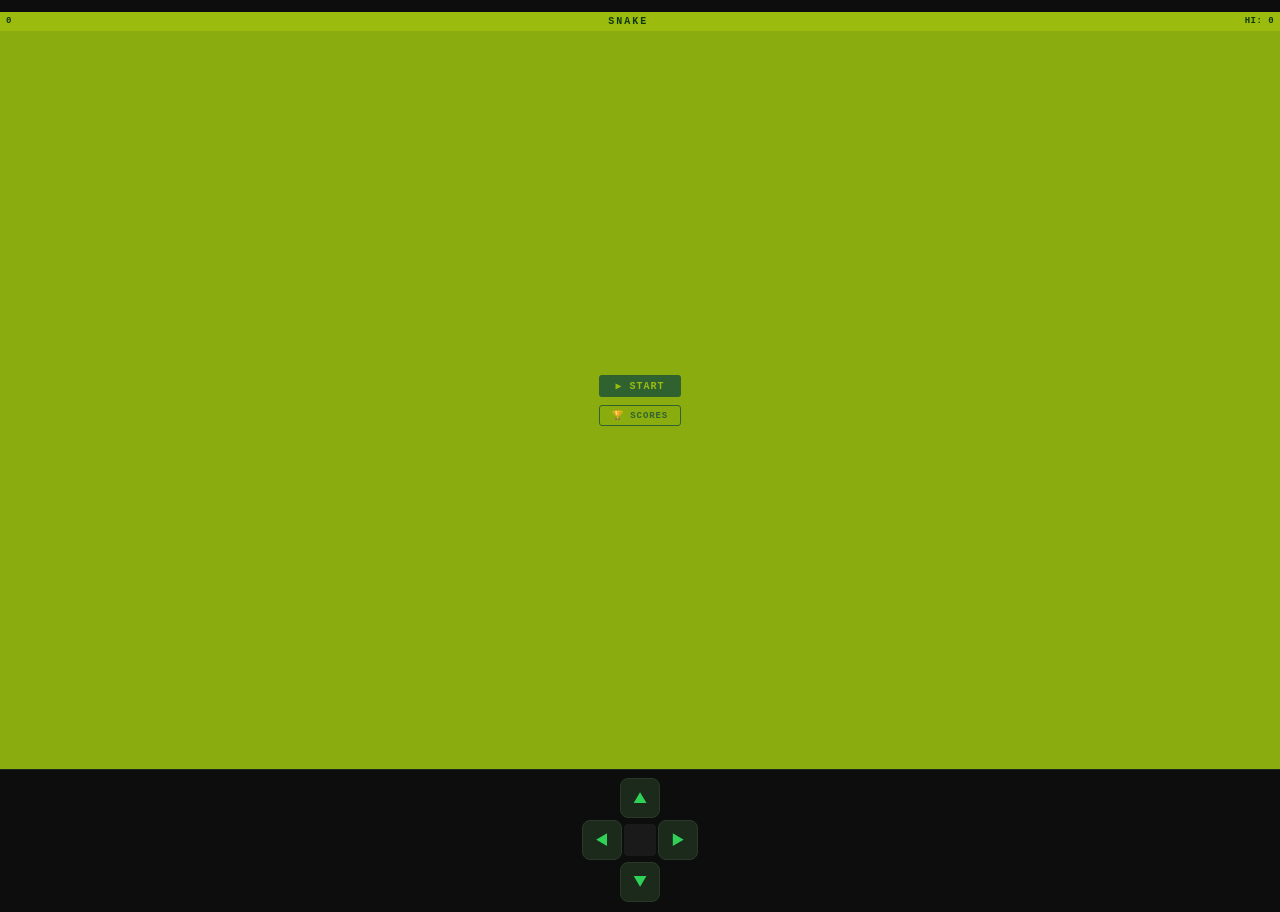
SnakeApp leaderboard › shows at most five leaderboard rows
What coordinates should you click on to do the following:
click the button "🏆 SCORES"
I would click on:
 (640, 415)
Its box is [599,404,681,426].
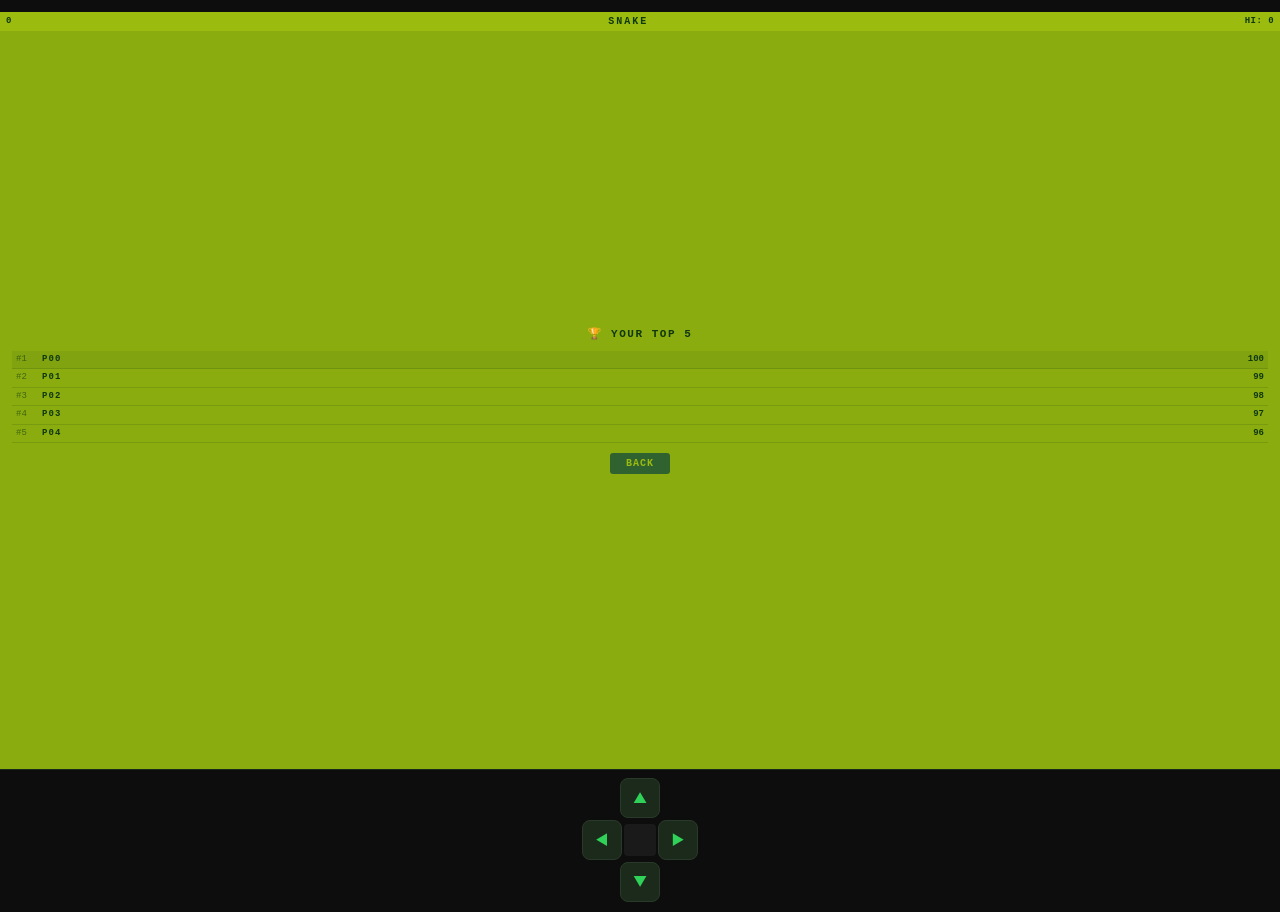
Expected: the text "#5" is shown, [16,428,27,438]
Expected: the number of list items is 5, [12,350,1268,369]; [12,369,1268,388]; [12,388,1268,406]; [12,406,1268,424]; [12,424,1268,443]
